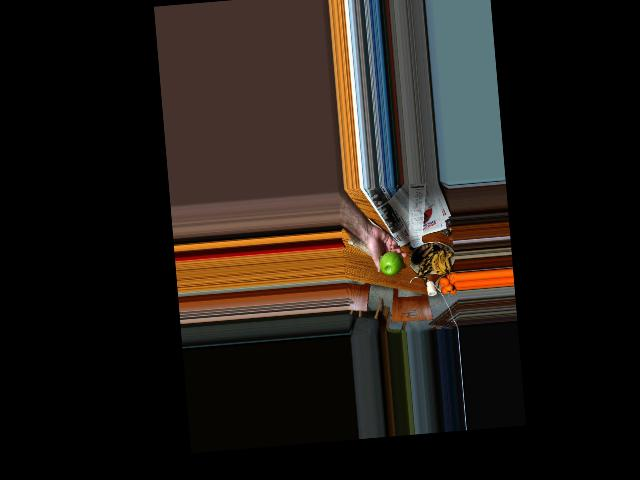apple: (377, 251, 405, 278)
